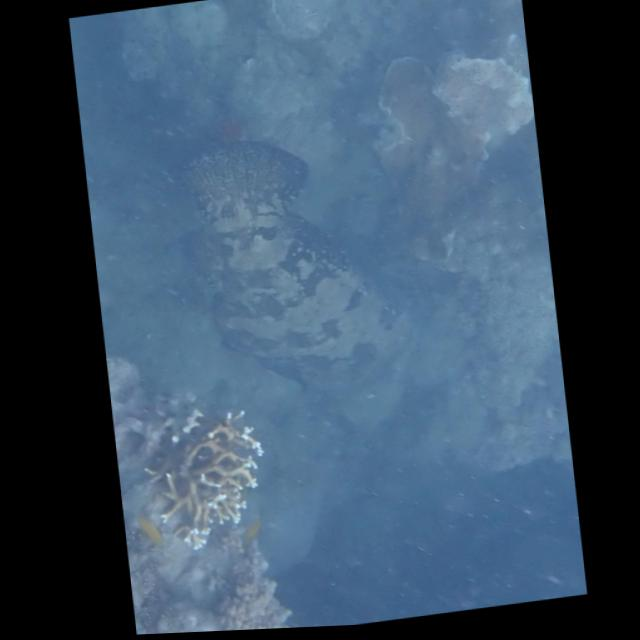Groupers: (174, 121, 421, 426)
